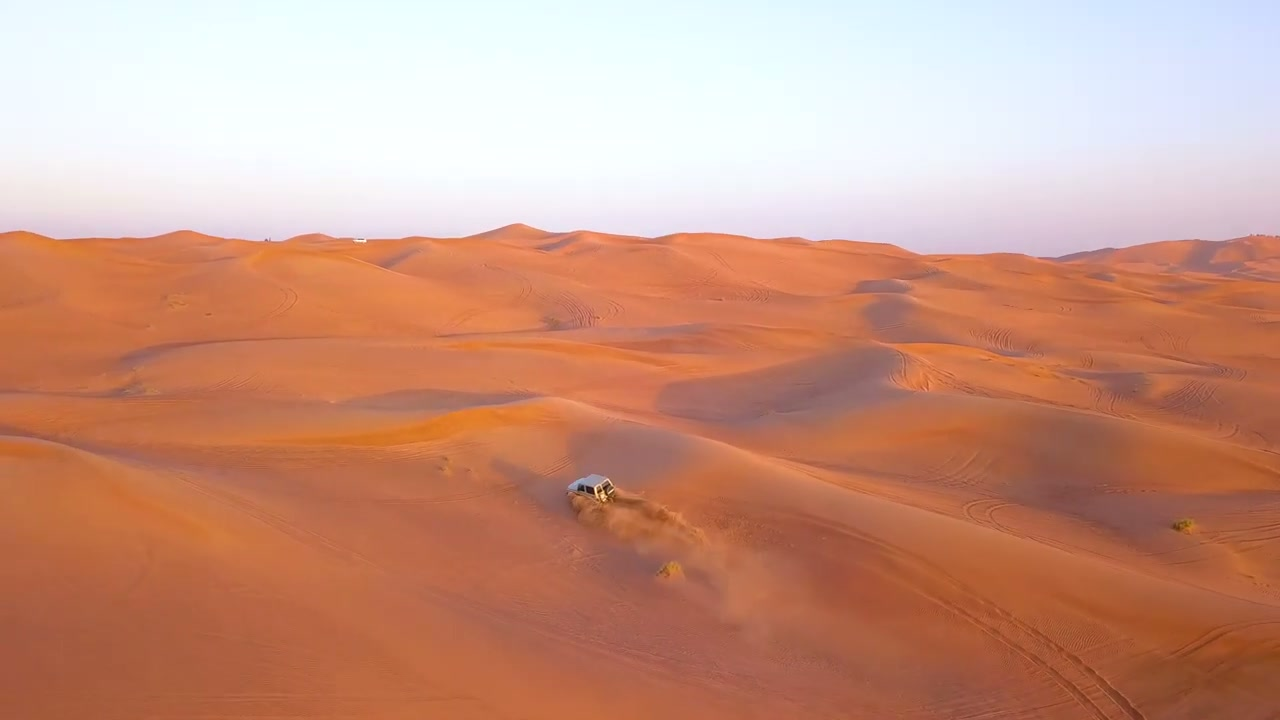vehicle_track: (760, 508, 1144, 719)
